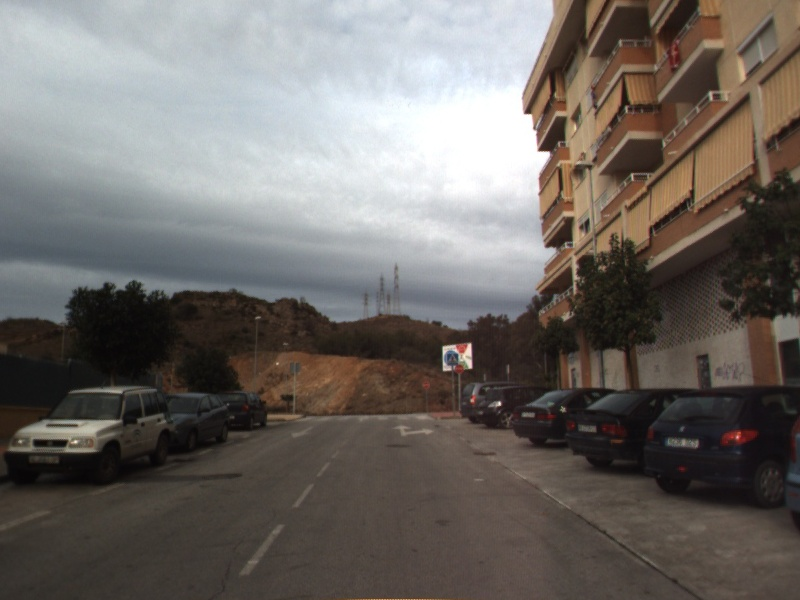STRAIGHT_RIGHT: (391, 423, 436, 438)
